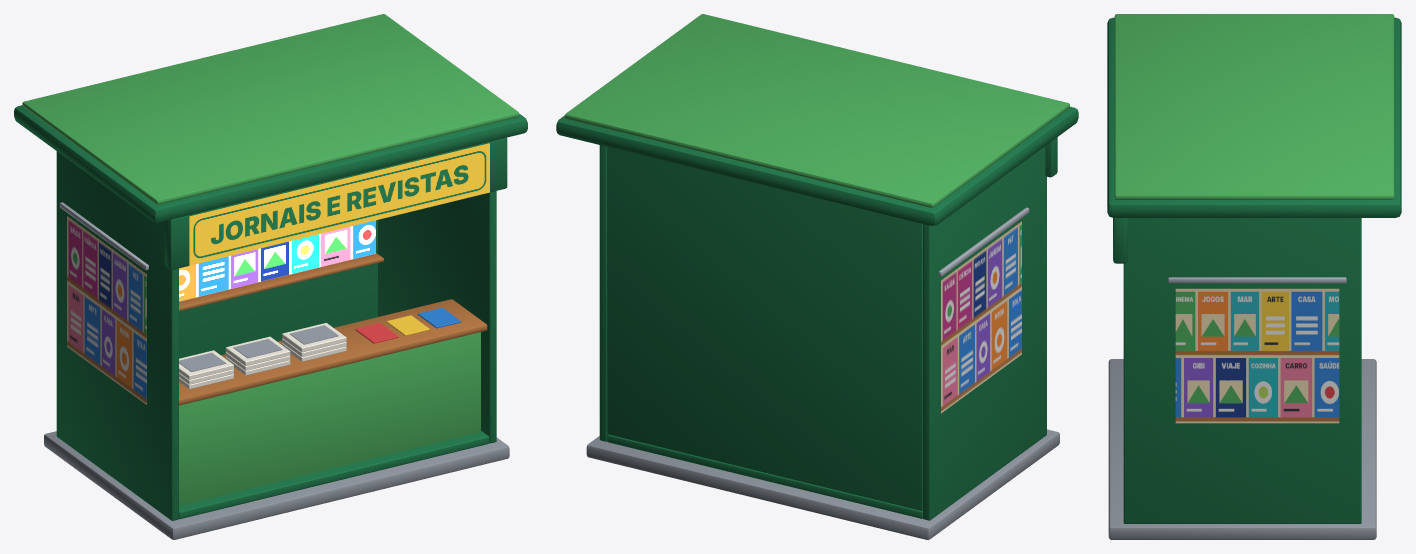
The model's file is banca_jornal.glb.
3 renders of one model, left to right at view 1: azimuth 30°, elevation 25°; view 2: azimuth 150°, elevation 25°; view 3: azimuth 270°, elevation 25°, orthographic. The views are drawn at different scales.
Parts seen in each view (by area): view 1: banca_jornal; view 2: banca_jornal; view 3: banca_jornal.
Part boxes in pixels (box(x1,y1,x2,y2)): banca_jornal: box(14, 14, 527, 539); banca_jornal: box(556, 14, 1078, 539); banca_jornal: box(1107, 14, 1401, 539).
Bounding box in the file's own units: 3 × 2.61 × 1.98.
Materials: 5 (4 with a texture image).
